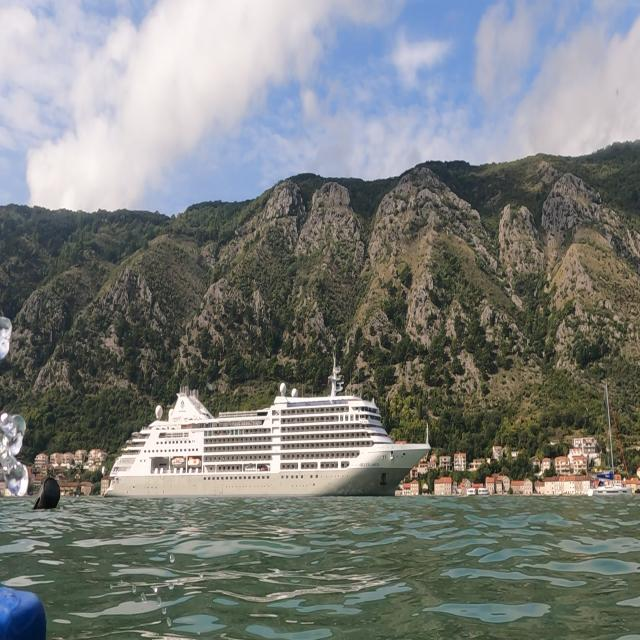boat: (100, 351, 432, 501), (29, 463, 65, 519)
